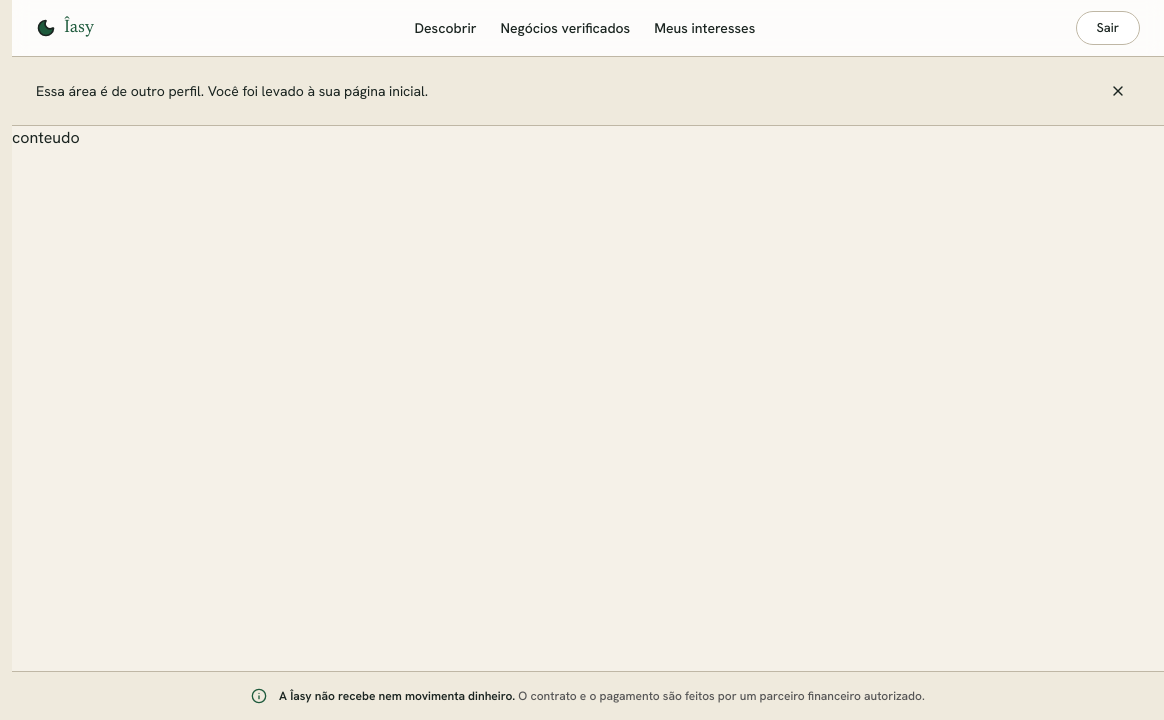
Test: faixa de aviso sem-permissao (AUTH-01, critério 7a) › aparece em /negocios?aviso=sem-permissao e pode ser dispensada
Expected: the message shows "Essa área é de outro perfil", [36,82,428,100]
Click the button named "Dispensar aviso" at (1118, 91), box [1096,69,1140,113]
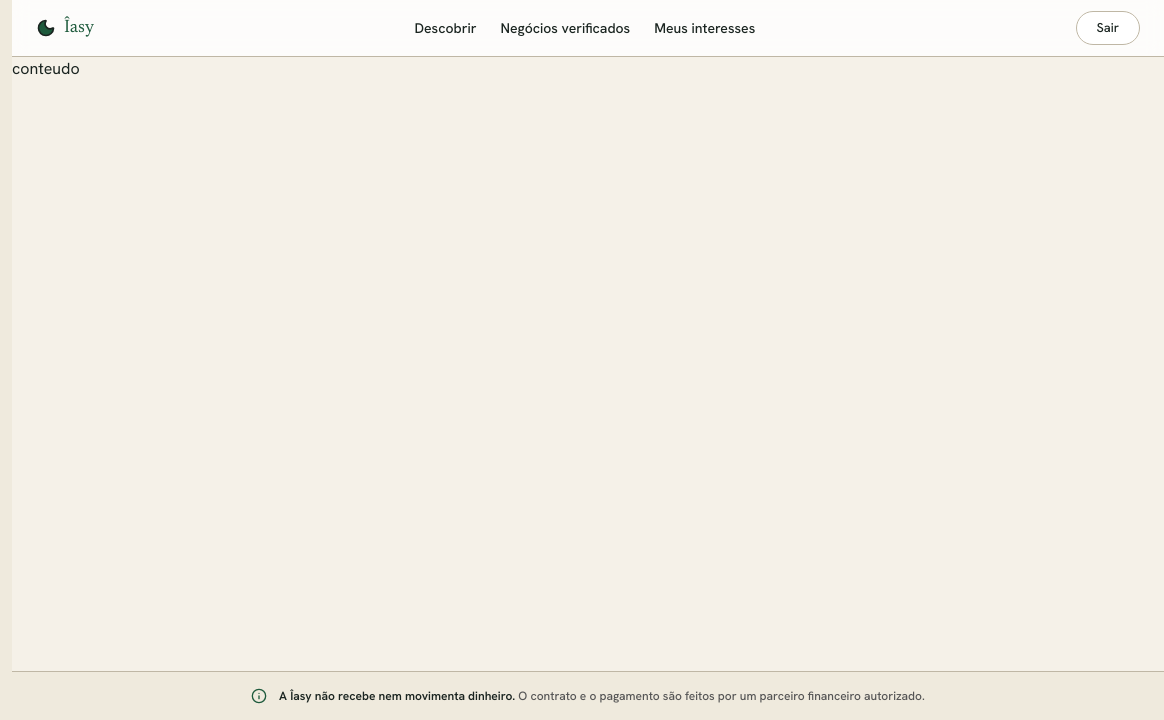
Expected: the message "Essa área é de outro perfil. Você foi levado à sua página inicial." is gone
